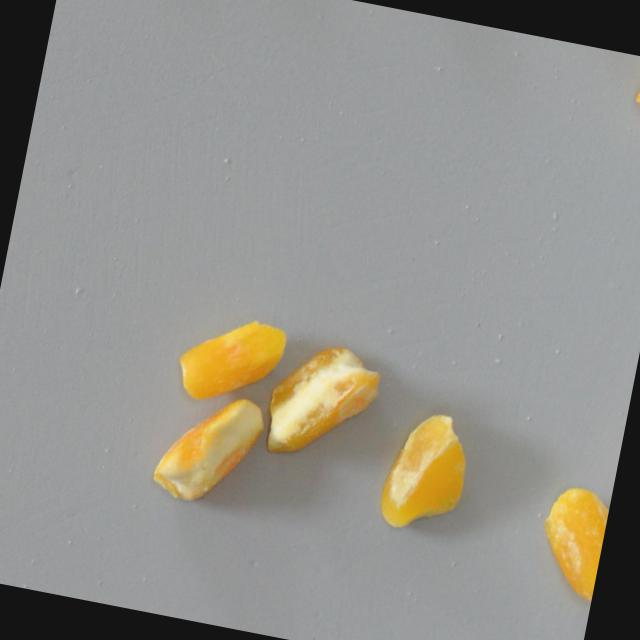estandar: (171, 303, 292, 419)
pelicula: (260, 335, 389, 472), (150, 384, 272, 514), (375, 404, 480, 546), (531, 481, 612, 602)
